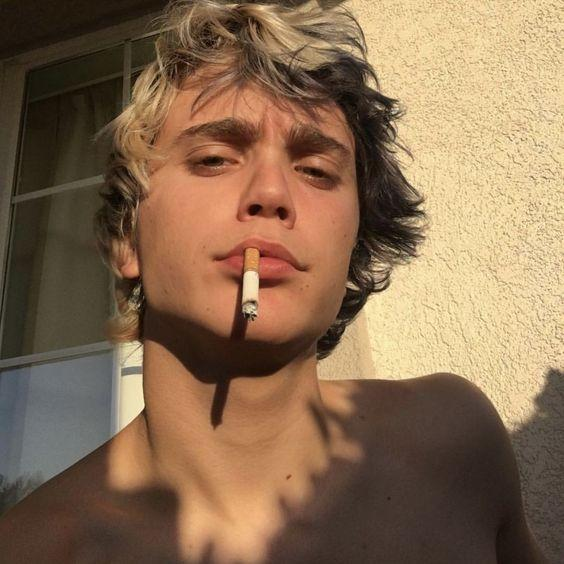cigarette: (241, 247, 260, 322)
